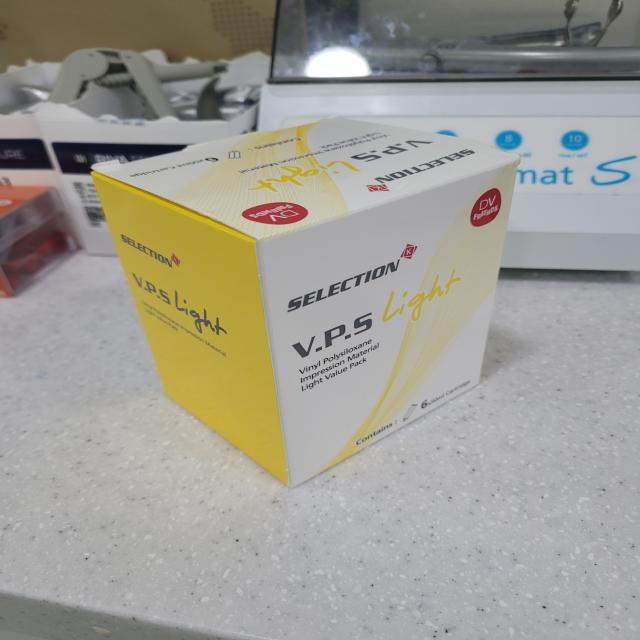impression: (69, 102, 532, 510)
